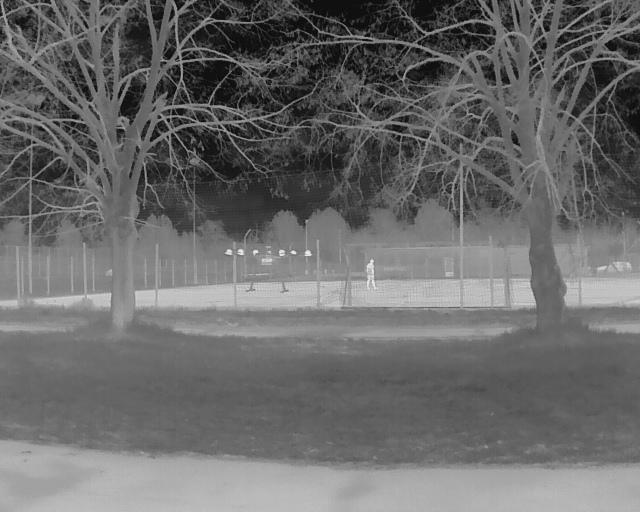drone: (216, 240, 320, 297)
